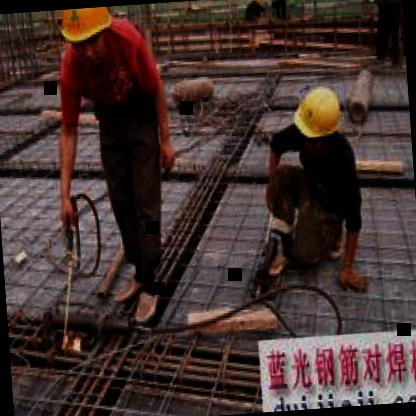helmet: (289, 80, 348, 158), (54, 6, 122, 69)
